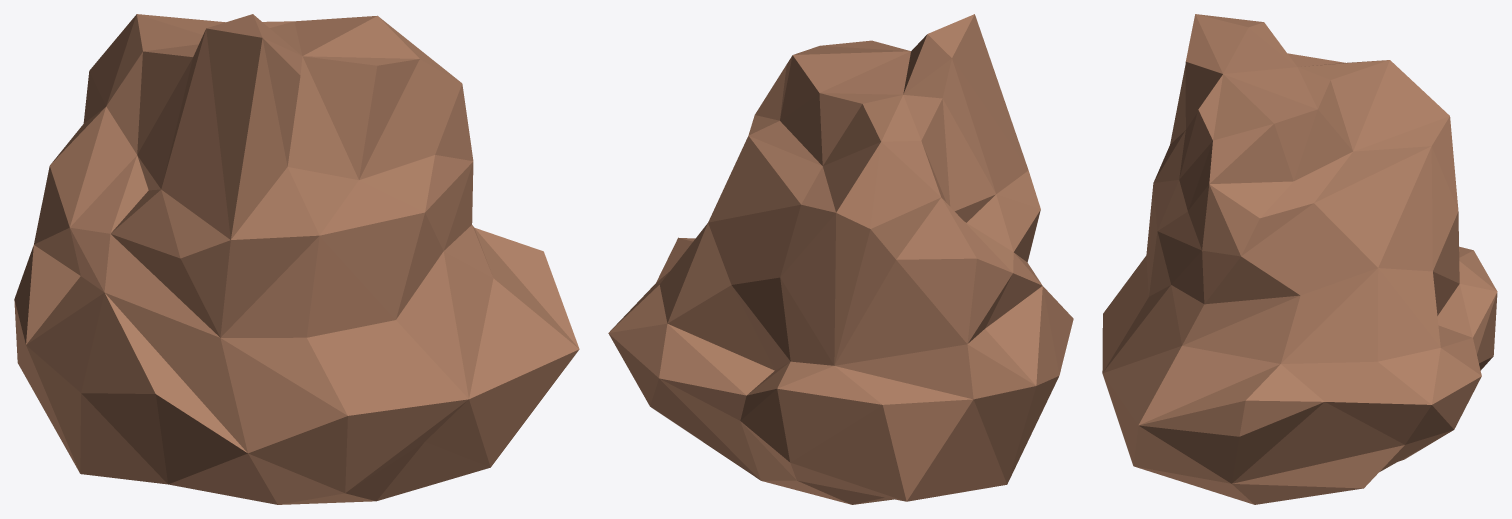
File: Rock_One_1128.fbx
3 renders of one model, left to right at view 1: azimuth 30°, elevation 25°; view 2: azimuth 150°, elevation 25°; view 3: azimuth 270°, elevation 25°, orthographic. The views are drawn at different scales.
Parts seen in each view (by area): view 1: Rock.001; view 2: Rock.001; view 3: Rock.001.
Boxes of the visible parts, x1,y1,x2,y2 form: Rock.001: (14,14,579,504); Rock.001: (608,14,1073,504); Rock.001: (1102,14,1497,504).
Bounding box in the file's own units: 1512 × 1567 × 1324.
